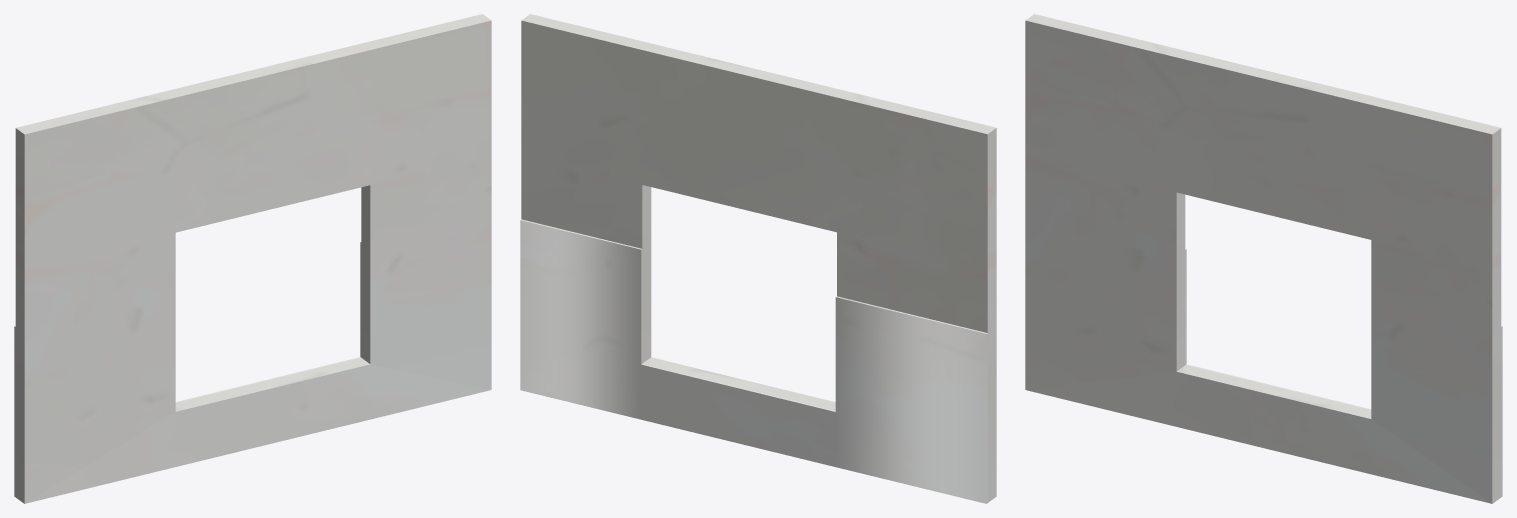
The model's file is wall_test_04.fbx.
The picture shows the model from 3 angles, left to right: view 1: azimuth 30°, elevation 25°; view 2: azimuth 150°, elevation 25°; view 3: azimuth 330°, elevation 25°; orthographic projection.
Visible parts, largest first — view 1: Wall_04; view 2: Wall_04; view 3: Wall_04.
Boxes of the visible parts, box(x1,y1,x2,y2) form: Wall_04: box(14, 14, 491, 503); Wall_04: box(520, 14, 996, 503); Wall_04: box(1025, 14, 1502, 503).
Size of the model in its own units: 516 by 390 by 19.23.
